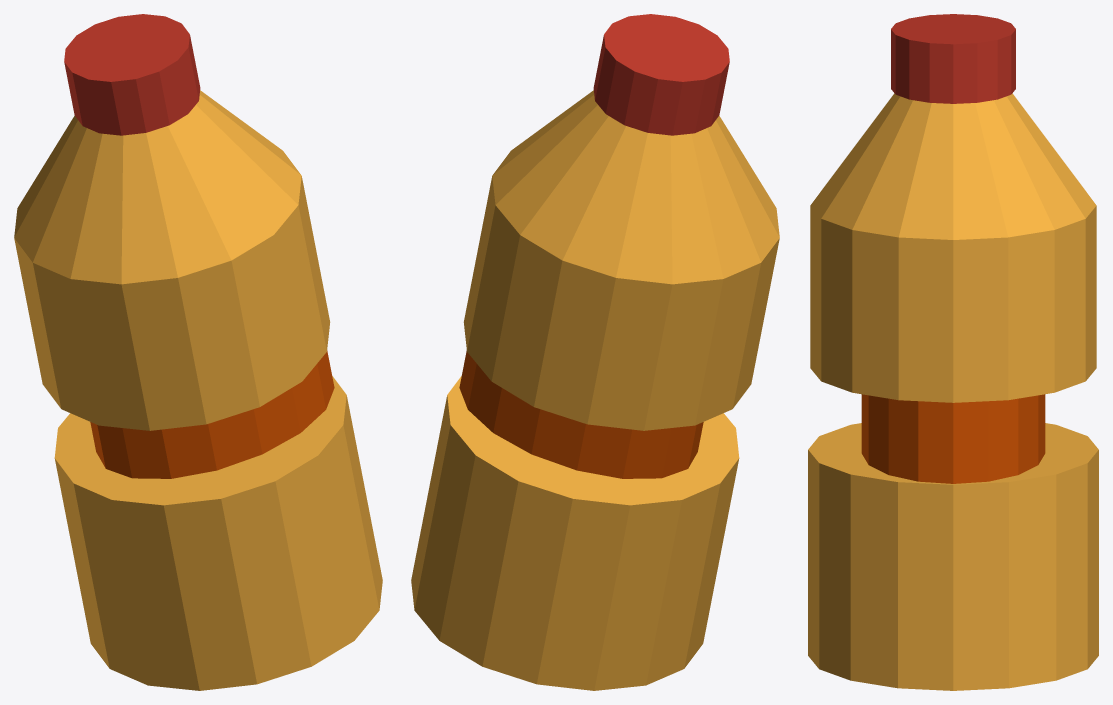
The model's file is litter_bottle.glb.
The picture shows the model from 3 angles, left to right: view 1: azimuth 30°, elevation 25°; view 2: azimuth 150°, elevation 25°; view 3: azimuth 270°, elevation 25°; orthographic projection. The views are drawn at different scales.
Parts seen in each view (by area): view 1: litter_bottle; view 2: litter_bottle; view 3: litter_bottle.
Part boxes in pixels (x1,y1,x2,y2): litter_bottle: (14, 14, 382, 690); litter_bottle: (411, 14, 779, 690); litter_bottle: (808, 14, 1098, 690).
Bounding box in the file's own units: 0.3324 × 0.6024 × 0.26.
